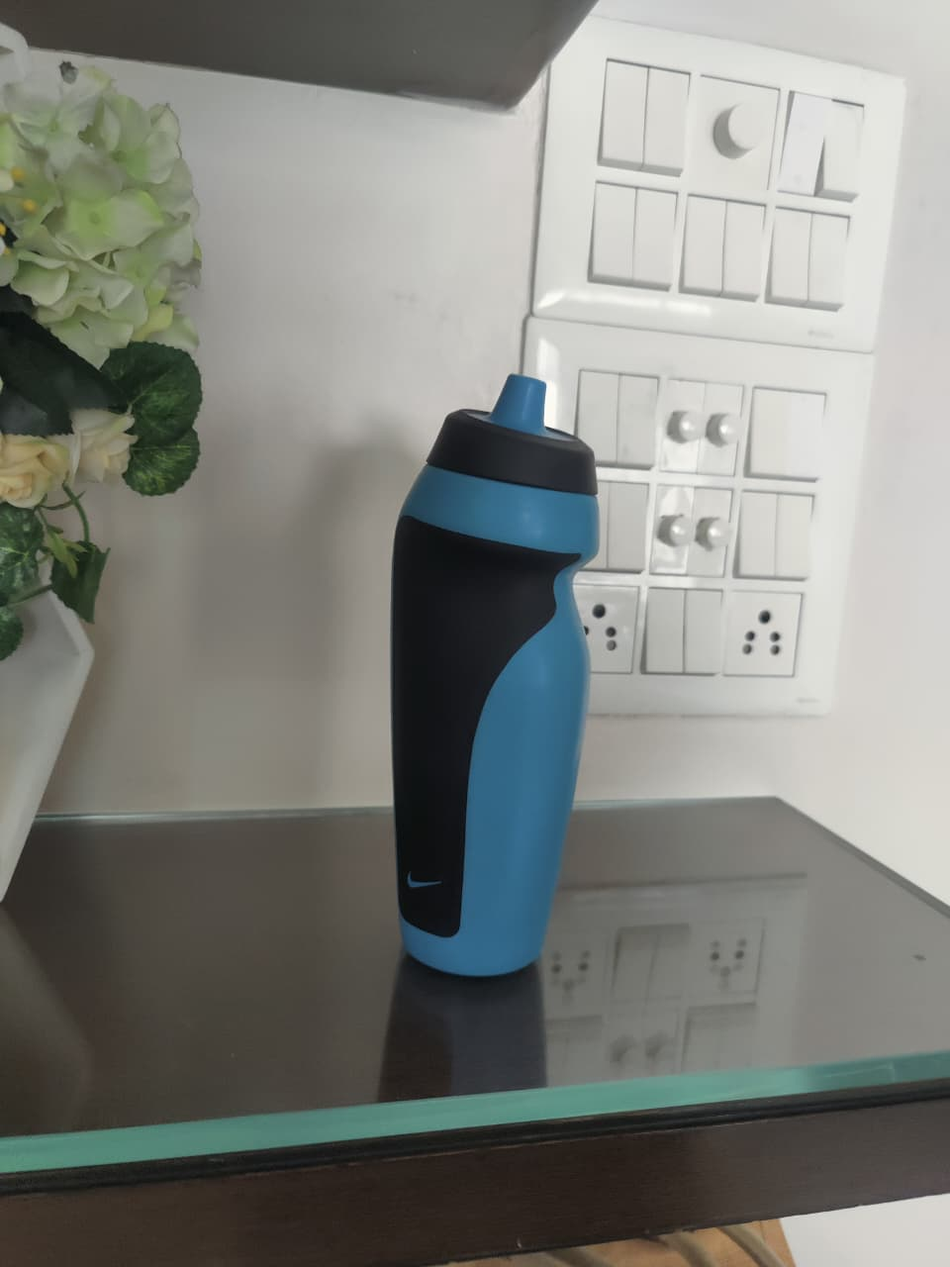bottle: (389, 373, 600, 979)
